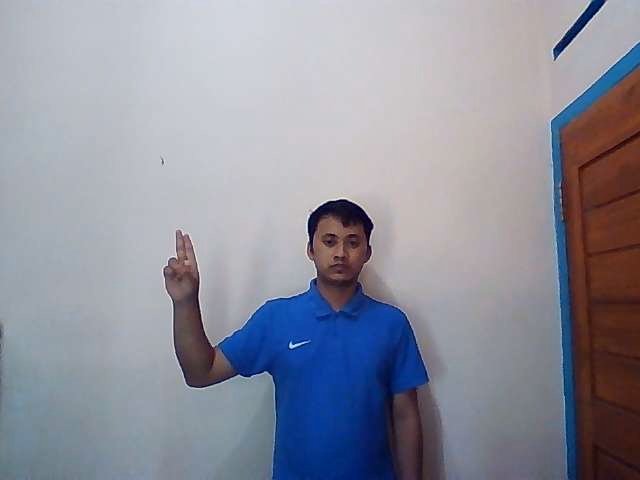U: (162, 229, 200, 298)
